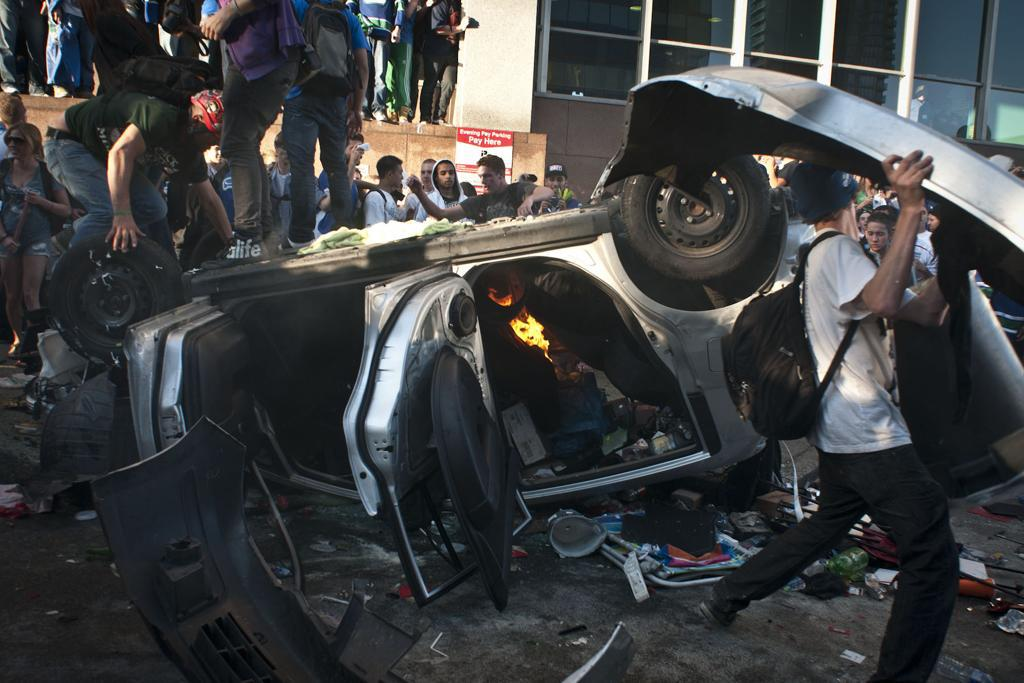face: (190, 125, 221, 150), (8, 132, 30, 158), (867, 224, 887, 251), (478, 168, 499, 193), (345, 141, 363, 165), (438, 164, 455, 187), (548, 175, 566, 195), (422, 165, 436, 188), (390, 164, 404, 187), (209, 143, 224, 163), (277, 142, 290, 162), (860, 214, 872, 231), (928, 214, 940, 230), (351, 173, 362, 190)
